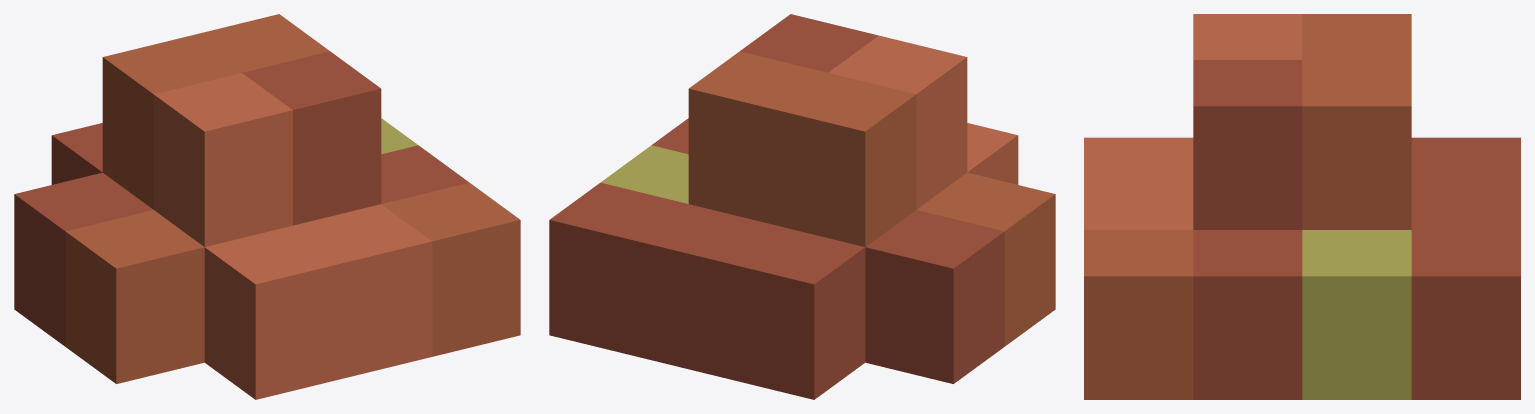
Rendered from DesertStackSmall.glb.
The picture shows the model from 3 angles, left to right: view 1: azimuth 30°, elevation 25°; view 2: azimuth 150°, elevation 25°; view 3: azimuth 270°, elevation 25°; orthographic projection. The views are drawn at different scales.
Visible parts, largest first — view 1: DesertStackSmall; view 2: DesertStackSmall; view 3: DesertStackSmall.
Boxes of the visible parts, x1,y1,x2,y2 form: DesertStackSmall: (14, 14, 520, 399); DesertStackSmall: (549, 14, 1055, 399); DesertStackSmall: (1084, 14, 1520, 399).
Bounding box in the file's own units: 8 × 5 × 8.
Materials: 1 (1 with a texture image).
